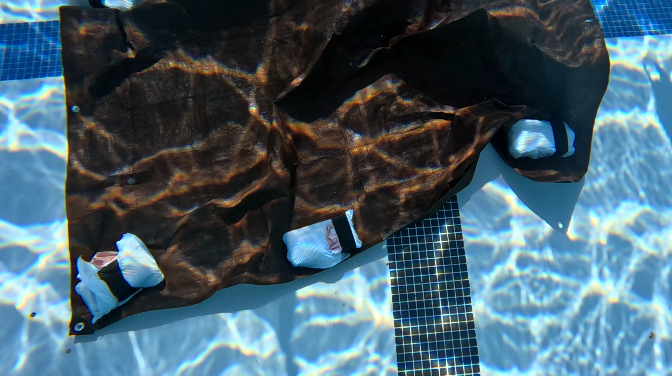sandbag: (58, 2, 610, 333)
